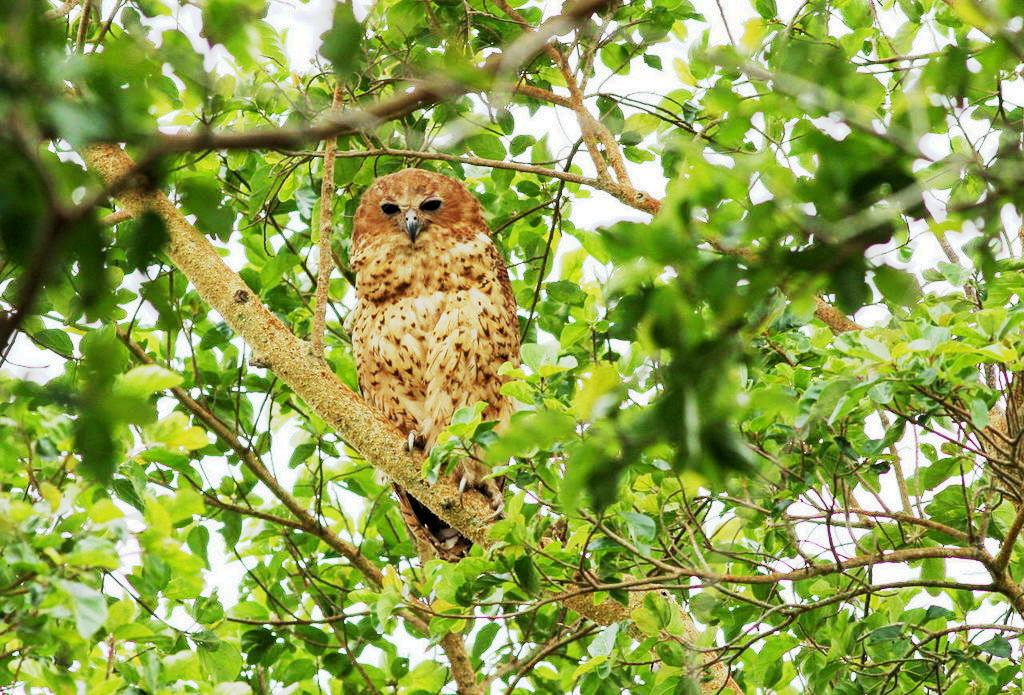Owl: (348, 167, 522, 578)
